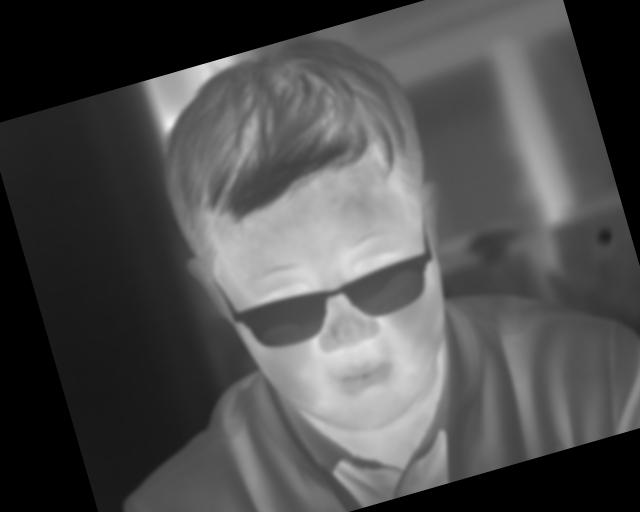face: (446, 186, 564, 323), (277, 114, 360, 217)
